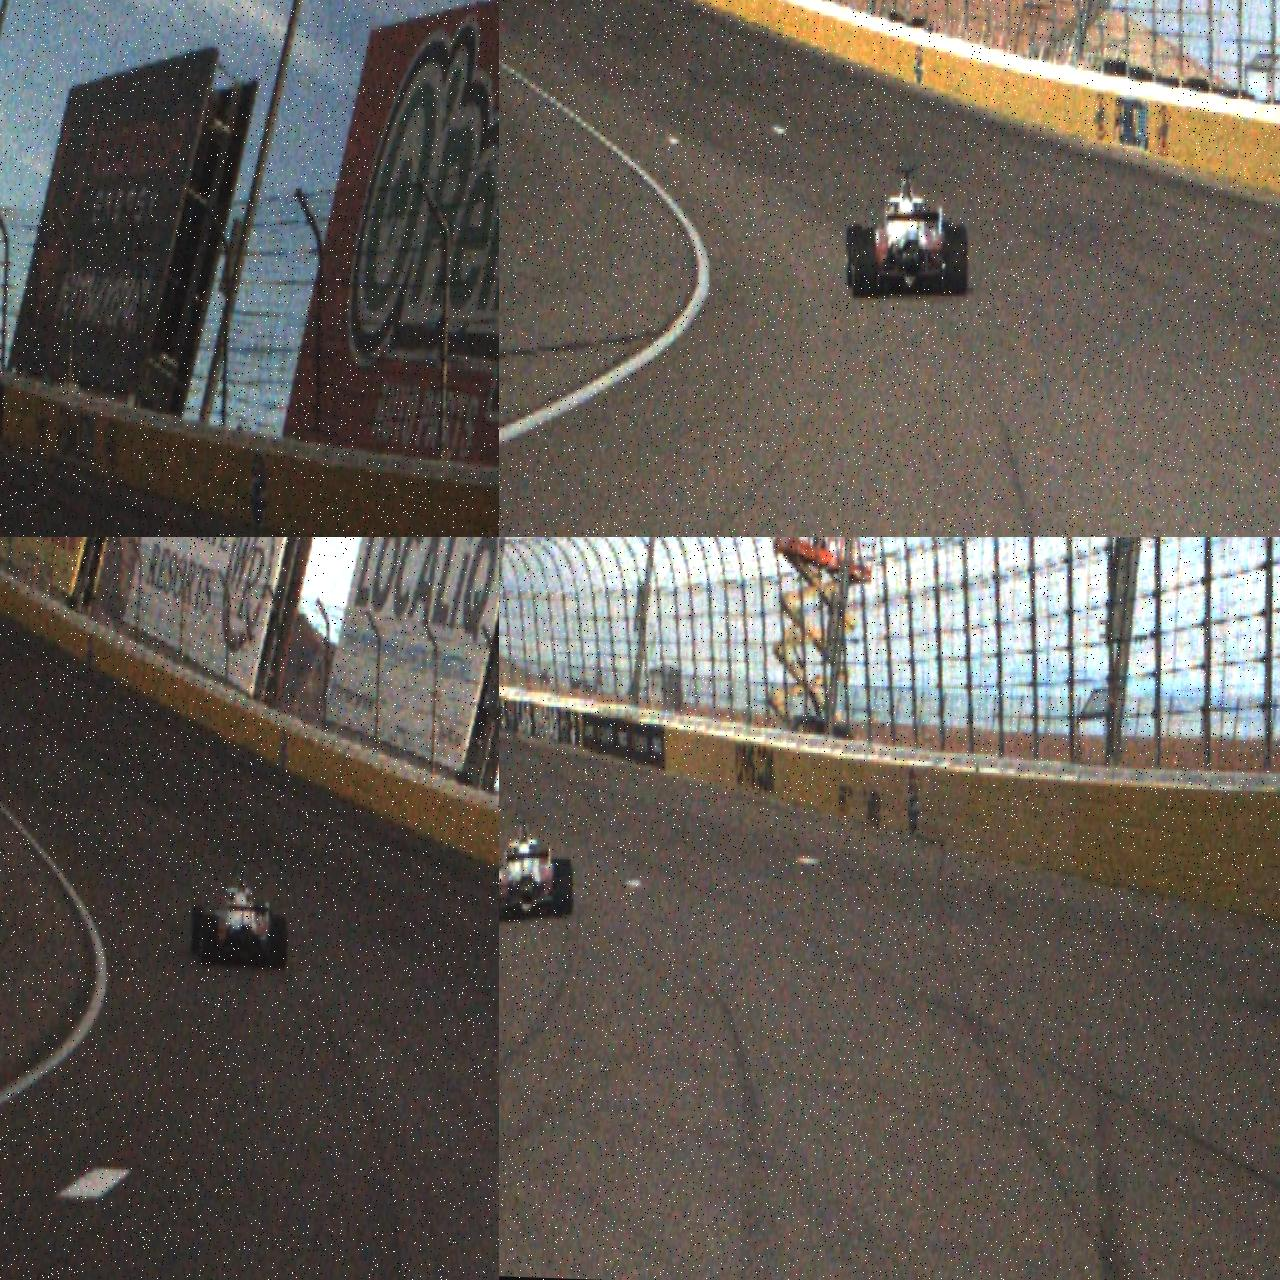AV: (844, 164, 971, 302), (188, 862, 292, 971), (499, 813, 576, 930)
Wheel: (942, 225, 968, 297), (851, 230, 876, 299), (552, 858, 574, 919), (844, 224, 864, 290), (268, 915, 290, 971), (198, 912, 218, 968), (188, 900, 205, 955)
